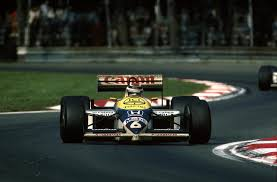FormulaOneCar: (55, 67, 216, 149)
